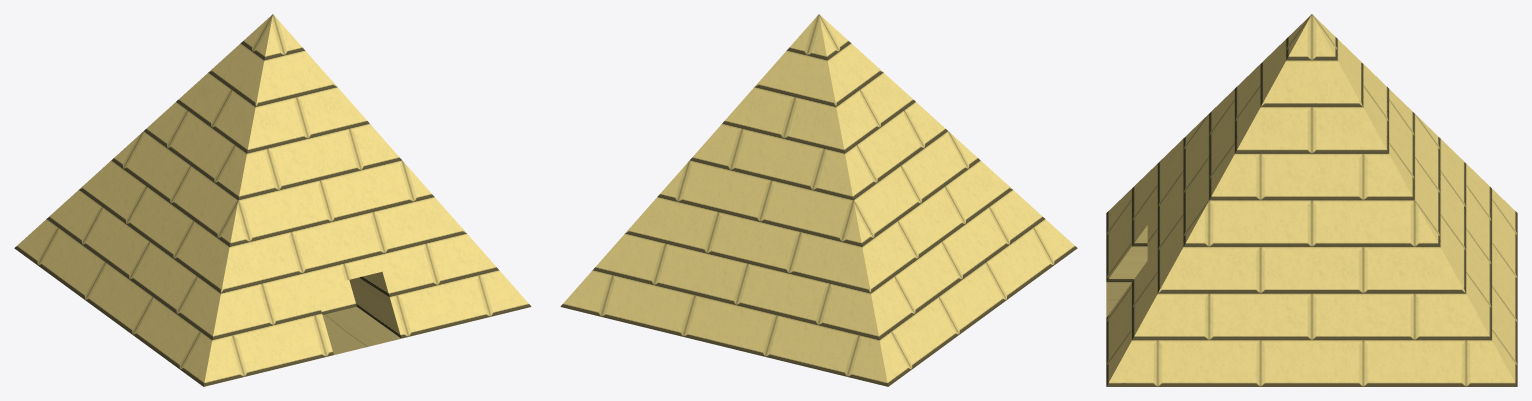
The picture shows the model from 3 angles, left to right: view 1: azimuth 30°, elevation 25°; view 2: azimuth 150°, elevation 25°; view 3: azimuth 270°, elevation 25°; orthographic projection. The views are drawn at different scales.
Parts seen in each view (by area): view 1: Pyramid001; view 2: Pyramid001; view 3: Pyramid001.
Boxes of the visible parts, left/top/right/bottom form: Pyramid001: left=14, top=14, right=531, bottom=386; Pyramid001: left=560, top=14, right=1077, bottom=386; Pyramid001: left=1106, top=14, right=1517, bottom=386.
Size of the model in its own units: 97.09 by 97.09 by 74.53.
1 material, 1 textured.
